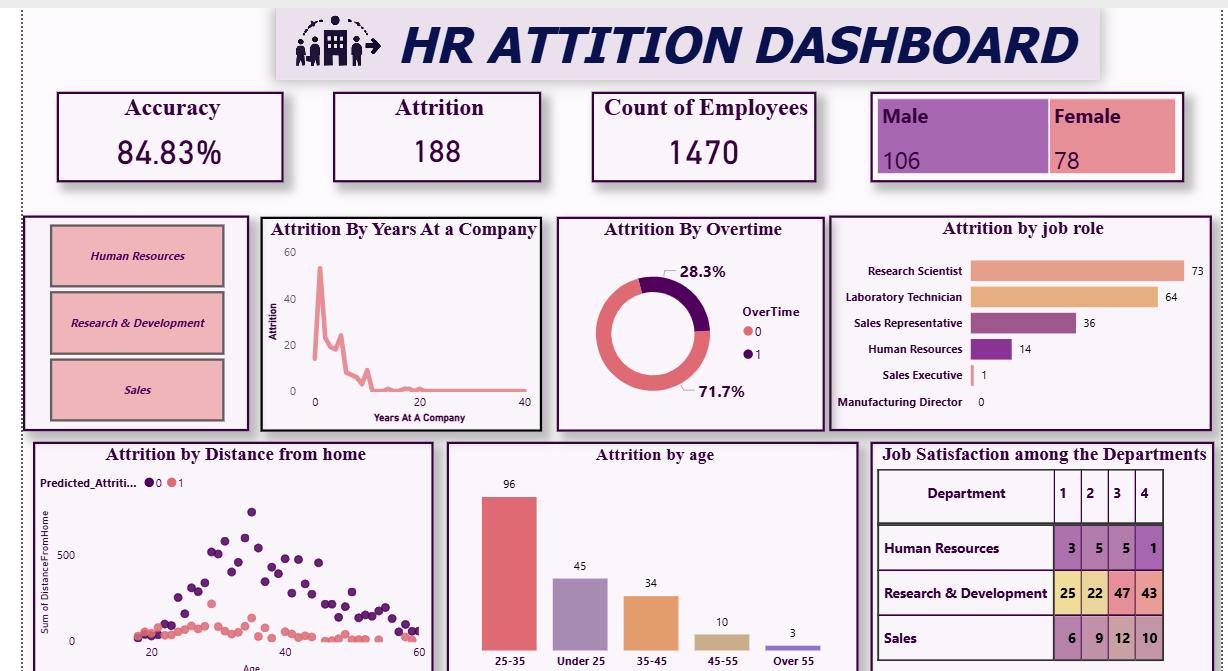

The dashboard page shown, as its layout file describes it:
{"tool":"powerbi","page":{"name":"Duplicate of Page 1","canvas":[1280,720],"ordinal":2},"visuals":[{"type":"card","title":"Count of Employees","fields":{"Values":["CountNonNull(project1.EmployeeNumber)"]},"box":[607.7,89.3,239.7,96.6],"z":0},{"type":"columnChart","title":"Attrition by age","fields":{"Category":["project1.Age Group"],"Y":["Sum(final dataset.Predicted_Attrition)"]},"box":[452.4,463.5,440.2,256.8],"z":1000},{"type":"pivotTable","title":"Job Satisfaction among the Departments","fields":{"Columns":["project1.JobSatisfaction"],"Values":["Sum(final dataset.Predicted_Attrition)"],"Rows":["initial dataset.Department"]},"box":[904.9,463.5,366.8,256.8],"z":2000},{"type":"barChart","title":"Attrition by job role","fields":{"Category":["project1.JobRole"],"Y":["Sum(final dataset.Predicted_Attrition)"]},"box":[871.9,222.6,408.4,229.9],"z":3000},{"type":"treemap","title":"Attrition by gender","fields":{"Group":["project1.Gender"],"Values":["Sum(final dataset.Predicted_Attrition)"]},"box":[904.9,89.3,335.1,96.6],"z":4000},{"type":"card","title":"Attrition","fields":{"Values":["Sum(final dataset.Predicted_Attrition)"]},"box":[331.4,89.3,222.6,96.6],"z":5000},{"type":"card","title":"Accuracy","fields":{"Values":["Avg(accuracy and fold.Accuracy)"]},"box":[36.7,89.3,242.1,96.6],"z":6000},{"type":"donutChart","title":"Attrition By Overtime","fields":{"Y":["CountNonNull(final dataset.Predicted_Attrition)"],"Category":["final dataset.OverTime"]},"box":[569.8,222.6,286.1,229.9],"z":7000},{"type":"lineChart","title":"Attrition By Years At a Company","fields":{"Category":["final dataset.YearsAtCompany"],"Y":["Sum(final dataset.Predicted_Attrition)"]},"box":[253.1,222.6,300.8,229.9],"z":8000},{"type":"textbox","box":[270.2,0,880.4,77],"z":9000},{"type":"slicer","fields":{"Values":["initial dataset.Department"]},"box":[0,222.6,240.9,229.9],"z":10000},{"type":"scatterChart","title":"Attrition by Distance from home","fields":{"Y":["Sum(final dataset.DistanceFromHome)"],"Series":["final dataset.Predicted_Attrition"],"X":["final dataset.Age"]},"box":[11,463.5,428,256.8],"z":11000},{"type":"image","box":[270.2,0,119.8,89.3],"z":12000}]}

Visuals, with their boxes in screenshot pixels (x1, y1, x2, y2), scaled from the page's 1280x720 canvas onto the 1228x671 screenshot:
"Count of Employees" card: x1=583 y1=83 x2=813 y2=173
"Attrition by age" columnChart: x1=434 y1=432 x2=856 y2=670
"Job Satisfaction among the Departments" pivotTable: x1=868 y1=432 x2=1220 y2=670
"Attrition by job role" barChart: x1=836 y1=207 x2=1227 y2=422
"Attrition by gender" treemap: x1=868 y1=83 x2=1190 y2=173
"Attrition" card: x1=318 y1=83 x2=531 y2=173
"Accuracy" card: x1=35 y1=83 x2=267 y2=173
"Attrition By Overtime" donutChart: x1=547 y1=207 x2=821 y2=422
"Attrition By Years At a Company" lineChart: x1=243 y1=207 x2=531 y2=422
textbox: x1=259 y1=0 x2=1104 y2=72
slicer - initial dataset.Department: x1=0 y1=207 x2=231 y2=422
"Attrition by Distance from home" scatterChart: x1=11 y1=432 x2=421 y2=670
image: x1=259 y1=0 x2=374 y2=83
